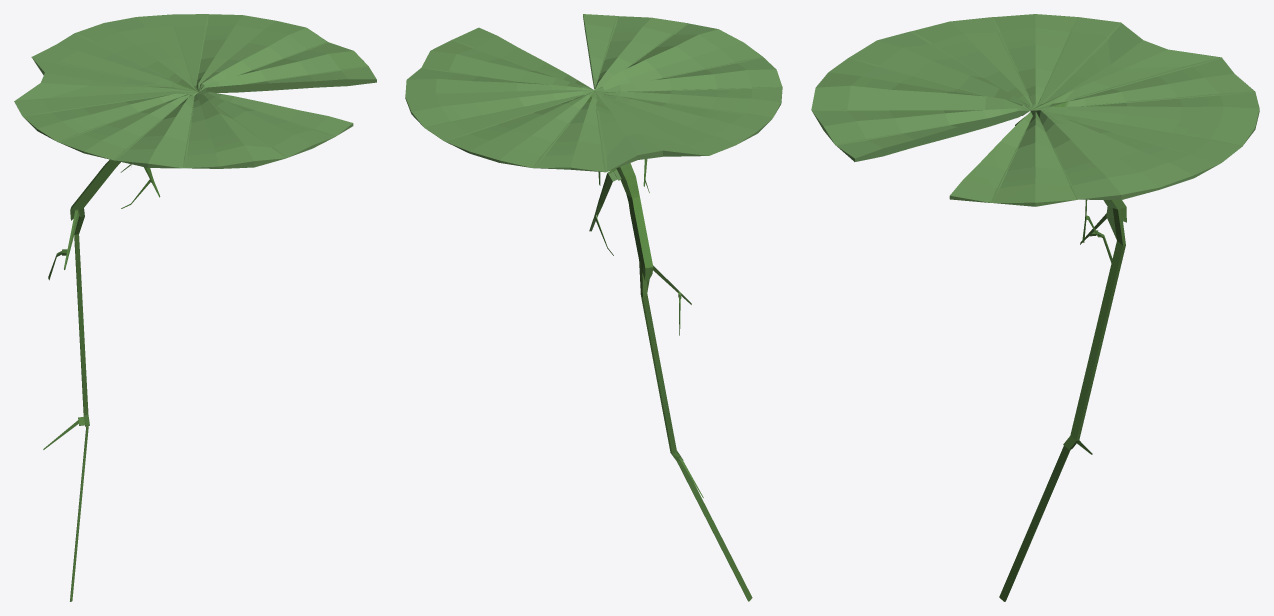
File: lilypad_poly.fbx
The picture shows the model from 3 angles, left to right: view 1: azimuth 30°, elevation 25°; view 2: azimuth 150°, elevation 25°; view 3: azimuth 270°, elevation 25°; orthographic projection. The views are drawn at different scales.
Visible parts, largest first — view 1: Cylinder; view 2: Cylinder; view 3: Cylinder.
Boxes of the visible parts, box(x1,y1,x2,y2) form: Cylinder: box(14, 14, 376, 601); Cylinder: box(405, 14, 782, 601); Cylinder: box(811, 14, 1259, 601).
Size of the model in its own units: 1087 by 1560 by 1087.
